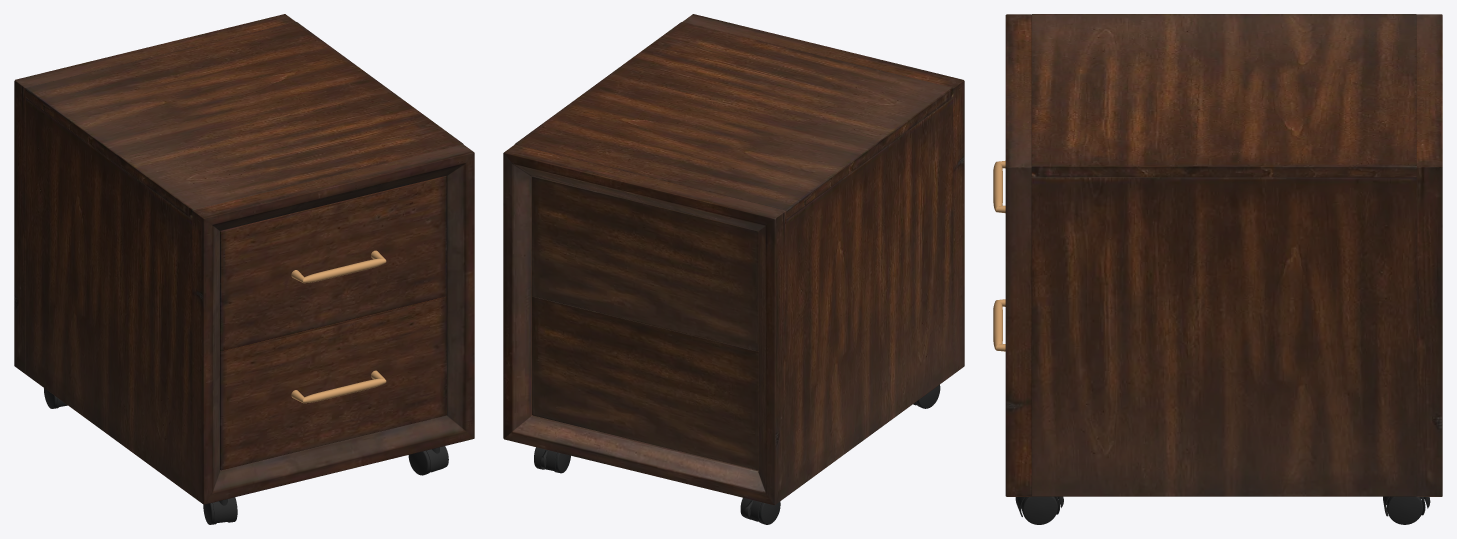
Rendered from abo-B07B7JY9C5.glb.
The picture shows the model from 3 angles, left to right: view 1: azimuth 30°, elevation 25°; view 2: azimuth 150°, elevation 25°; view 3: azimuth 270°, elevation 25°; orthographic projection. The views are drawn at different scales.
Size of the model in its own units: 0.402 by 0.455 by 0.5.
Materials: 1 (1 with a texture image).
